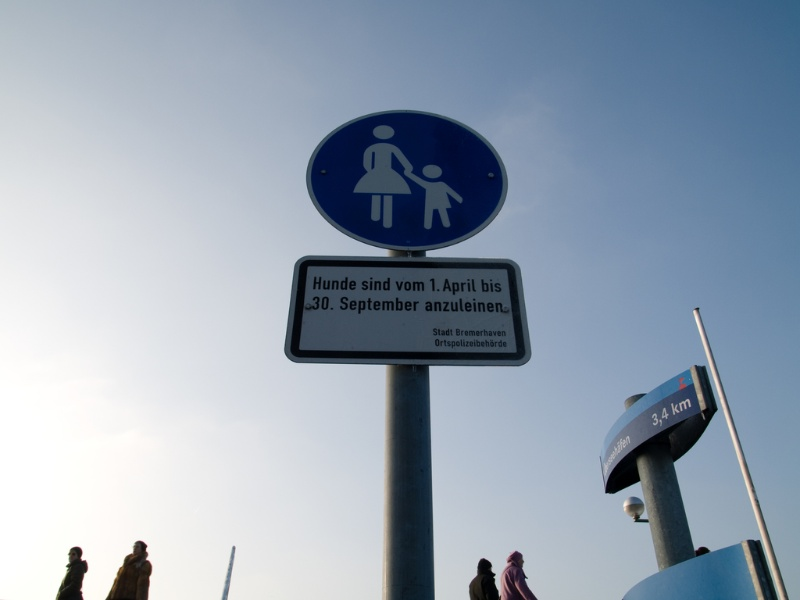pedestrian_crossing_ahead: (353, 116, 465, 243)
